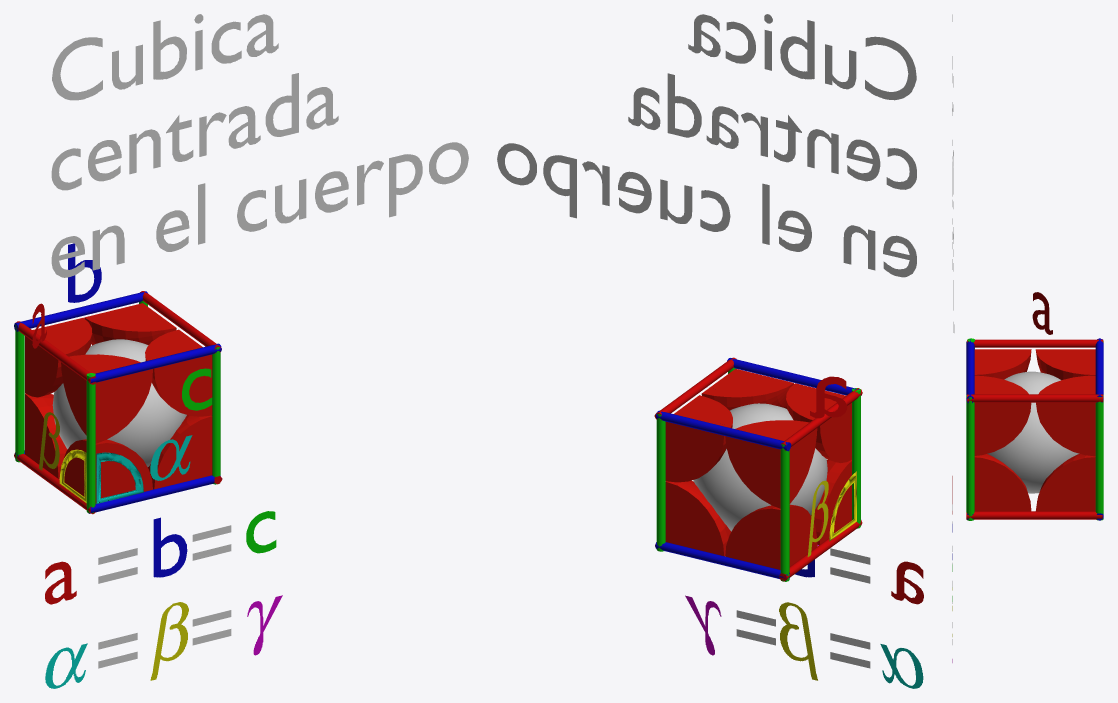
The model's file is cubica centrada en el cuerpo.obj.
The picture shows the model from 3 angles, left to right: view 1: azimuth 30°, elevation 25°; view 2: azimuth 150°, elevation 25°; view 3: azimuth 270°, elevation 25°; orthographic projection. The views are drawn at different scales.
Parts seen in each view (by area): view 1: Text.169_Text.170, Sphere.292_Sphere.230_Sphere.292_Sphere.002, Sphere.302_Sphere.240_Sphere.302_Sphere.002, Sphere.294_Sphere.232_Sphere.294_Sphere.002, Sphere.296_Sphere.234_Sphere.296_Sphere.002, Sphere.293_Sphere.231_Sphere.293_Sphere.002, Sphere.291_Sphere.227_Sphere.291_Sphere.002, Sphere.298_Sphere.236_Sphere.298_Sphere.002, Sphere.295_Sphere.233_Sphere.295_Sphere.002, Cylinder.410_Cylinder.357, Cylinder.401_Cylinder.348, Cylinder.408_Cylinder.355 (+13 smaller); view 2: Text.169_Text.170, Sphere.302_Sphere.240_Sphere.302_Sphere.002, Sphere.296_Sphere.234_Sphere.296_Sphere.002, Sphere.298_Sphere.236_Sphere.298_Sphere.002, Sphere.295_Sphere.233_Sphere.295_Sphere.002, Sphere.297_Sphere.235_Sphere.297_Sphere.002, Sphere.292_Sphere.230_Sphere.292_Sphere.002, Sphere.294_Sphere.232_Sphere.294_Sphere.002, Sphere.291_Sphere.227_Sphere.291_Sphere.002, Cylinder.405_Cylinder.352, Cylinder.407_Cylinder.354, Cylinder.408_Cylinder.355 (+12 smaller); view 3: Sphere.302_Sphere.240_Sphere.302_Sphere.002, Sphere.298_Sphere.236_Sphere.298_Sphere.002, Sphere.294_Sphere.232_Sphere.294_Sphere.002, Sphere.297_Sphere.235_Sphere.297_Sphere.002, Sphere.293_Sphere.231_Sphere.293_Sphere.002, Sphere.296_Sphere.234_Sphere.296_Sphere.002, Sphere.292_Sphere.230_Sphere.292_Sphere.002, Cylinder.404_Cylinder.351, Cylinder.403_Cylinder.350, Cylinder.411_Cylinder.358, Cylinder.402_Cylinder.349, Cylinder.405_Cylinder.352 (+4 smaller).
Boxes of the visible parts, x1,y1,x2,y2 form: Text.169_Text.170: [51, 14, 468, 277]; Sphere.292_Sphere.230_Sphere.292_Sphere.002: [61, 354, 152, 443]; Sphere.302_Sphere.240_Sphere.302_Sphere.002: [52, 339, 186, 466]; Sphere.294_Sphere.232_Sphere.294_Sphere.002: [145, 329, 212, 416]; Sphere.296_Sphere.234_Sphere.296_Sphere.002: [25, 317, 92, 397]; Sphere.293_Sphere.231_Sphere.293_Sphere.002: [148, 415, 212, 489]; Sphere.291_Sphere.227_Sphere.291_Sphere.002: [63, 439, 152, 503]; Sphere.298_Sphere.236_Sphere.298_Sphere.002: [84, 303, 176, 345]; Sphere.295_Sphere.233_Sphere.295_Sphere.002: [25, 393, 67, 479]; Cylinder.410_Cylinder.357: [86, 373, 95, 513]; Cylinder.401_Cylinder.348: [89, 343, 221, 383]; Cylinder.408_Cylinder.355: [15, 324, 24, 462]; Text.169_Text.170: [497, 14, 916, 277]; Sphere.302_Sphere.240_Sphere.302_Sphere.002: [693, 403, 827, 531]; Sphere.296_Sphere.234_Sphere.296_Sphere.002: [725, 420, 817, 508]; Sphere.298_Sphere.236_Sphere.298_Sphere.002: [665, 395, 732, 482]; Sphere.295_Sphere.233_Sphere.295_Sphere.002: [725, 504, 817, 569]; Sphere.297_Sphere.235_Sphere.297_Sphere.002: [665, 480, 731, 556]; Sphere.292_Sphere.230_Sphere.292_Sphere.002: [786, 383, 851, 462]; Sphere.294_Sphere.232_Sphere.294_Sphere.002: [701, 369, 793, 410]; Sphere.291_Sphere.227_Sphere.291_Sphere.002: [811, 459, 851, 544]; Cylinder.405_Cylinder.352: [656, 413, 665, 551]; Cylinder.407_Cylinder.354: [656, 410, 791, 451]; Cylinder.408_Cylinder.355: [780, 444, 789, 581]; Sphere.302_Sphere.240_Sphere.302_Sphere.002: [987, 371, 1079, 493]; Sphere.298_Sphere.236_Sphere.298_Sphere.002: [1036, 375, 1095, 456]; Sphere.294_Sphere.232_Sphere.294_Sphere.002: [974, 375, 1031, 455]; Sphere.297_Sphere.235_Sphere.297_Sphere.002: [1036, 454, 1095, 511]; Sphere.293_Sphere.231_Sphere.293_Sphere.002: [974, 454, 1031, 511]; Sphere.296_Sphere.234_Sphere.296_Sphere.002: [1035, 349, 1095, 380]; Sphere.292_Sphere.230_Sphere.292_Sphere.002: [974, 349, 1031, 379]; Cylinder.404_Cylinder.351: [967, 394, 1103, 402]; Cylinder.403_Cylinder.350: [966, 511, 1102, 519]; Cylinder.411_Cylinder.358: [967, 339, 1103, 347]; Cylinder.402_Cylinder.349: [966, 395, 974, 520]; Cylinder.405_Cylinder.352: [1095, 395, 1103, 520].
Size of the model in its own units: 1.74 by 2.58 by 0.596.
